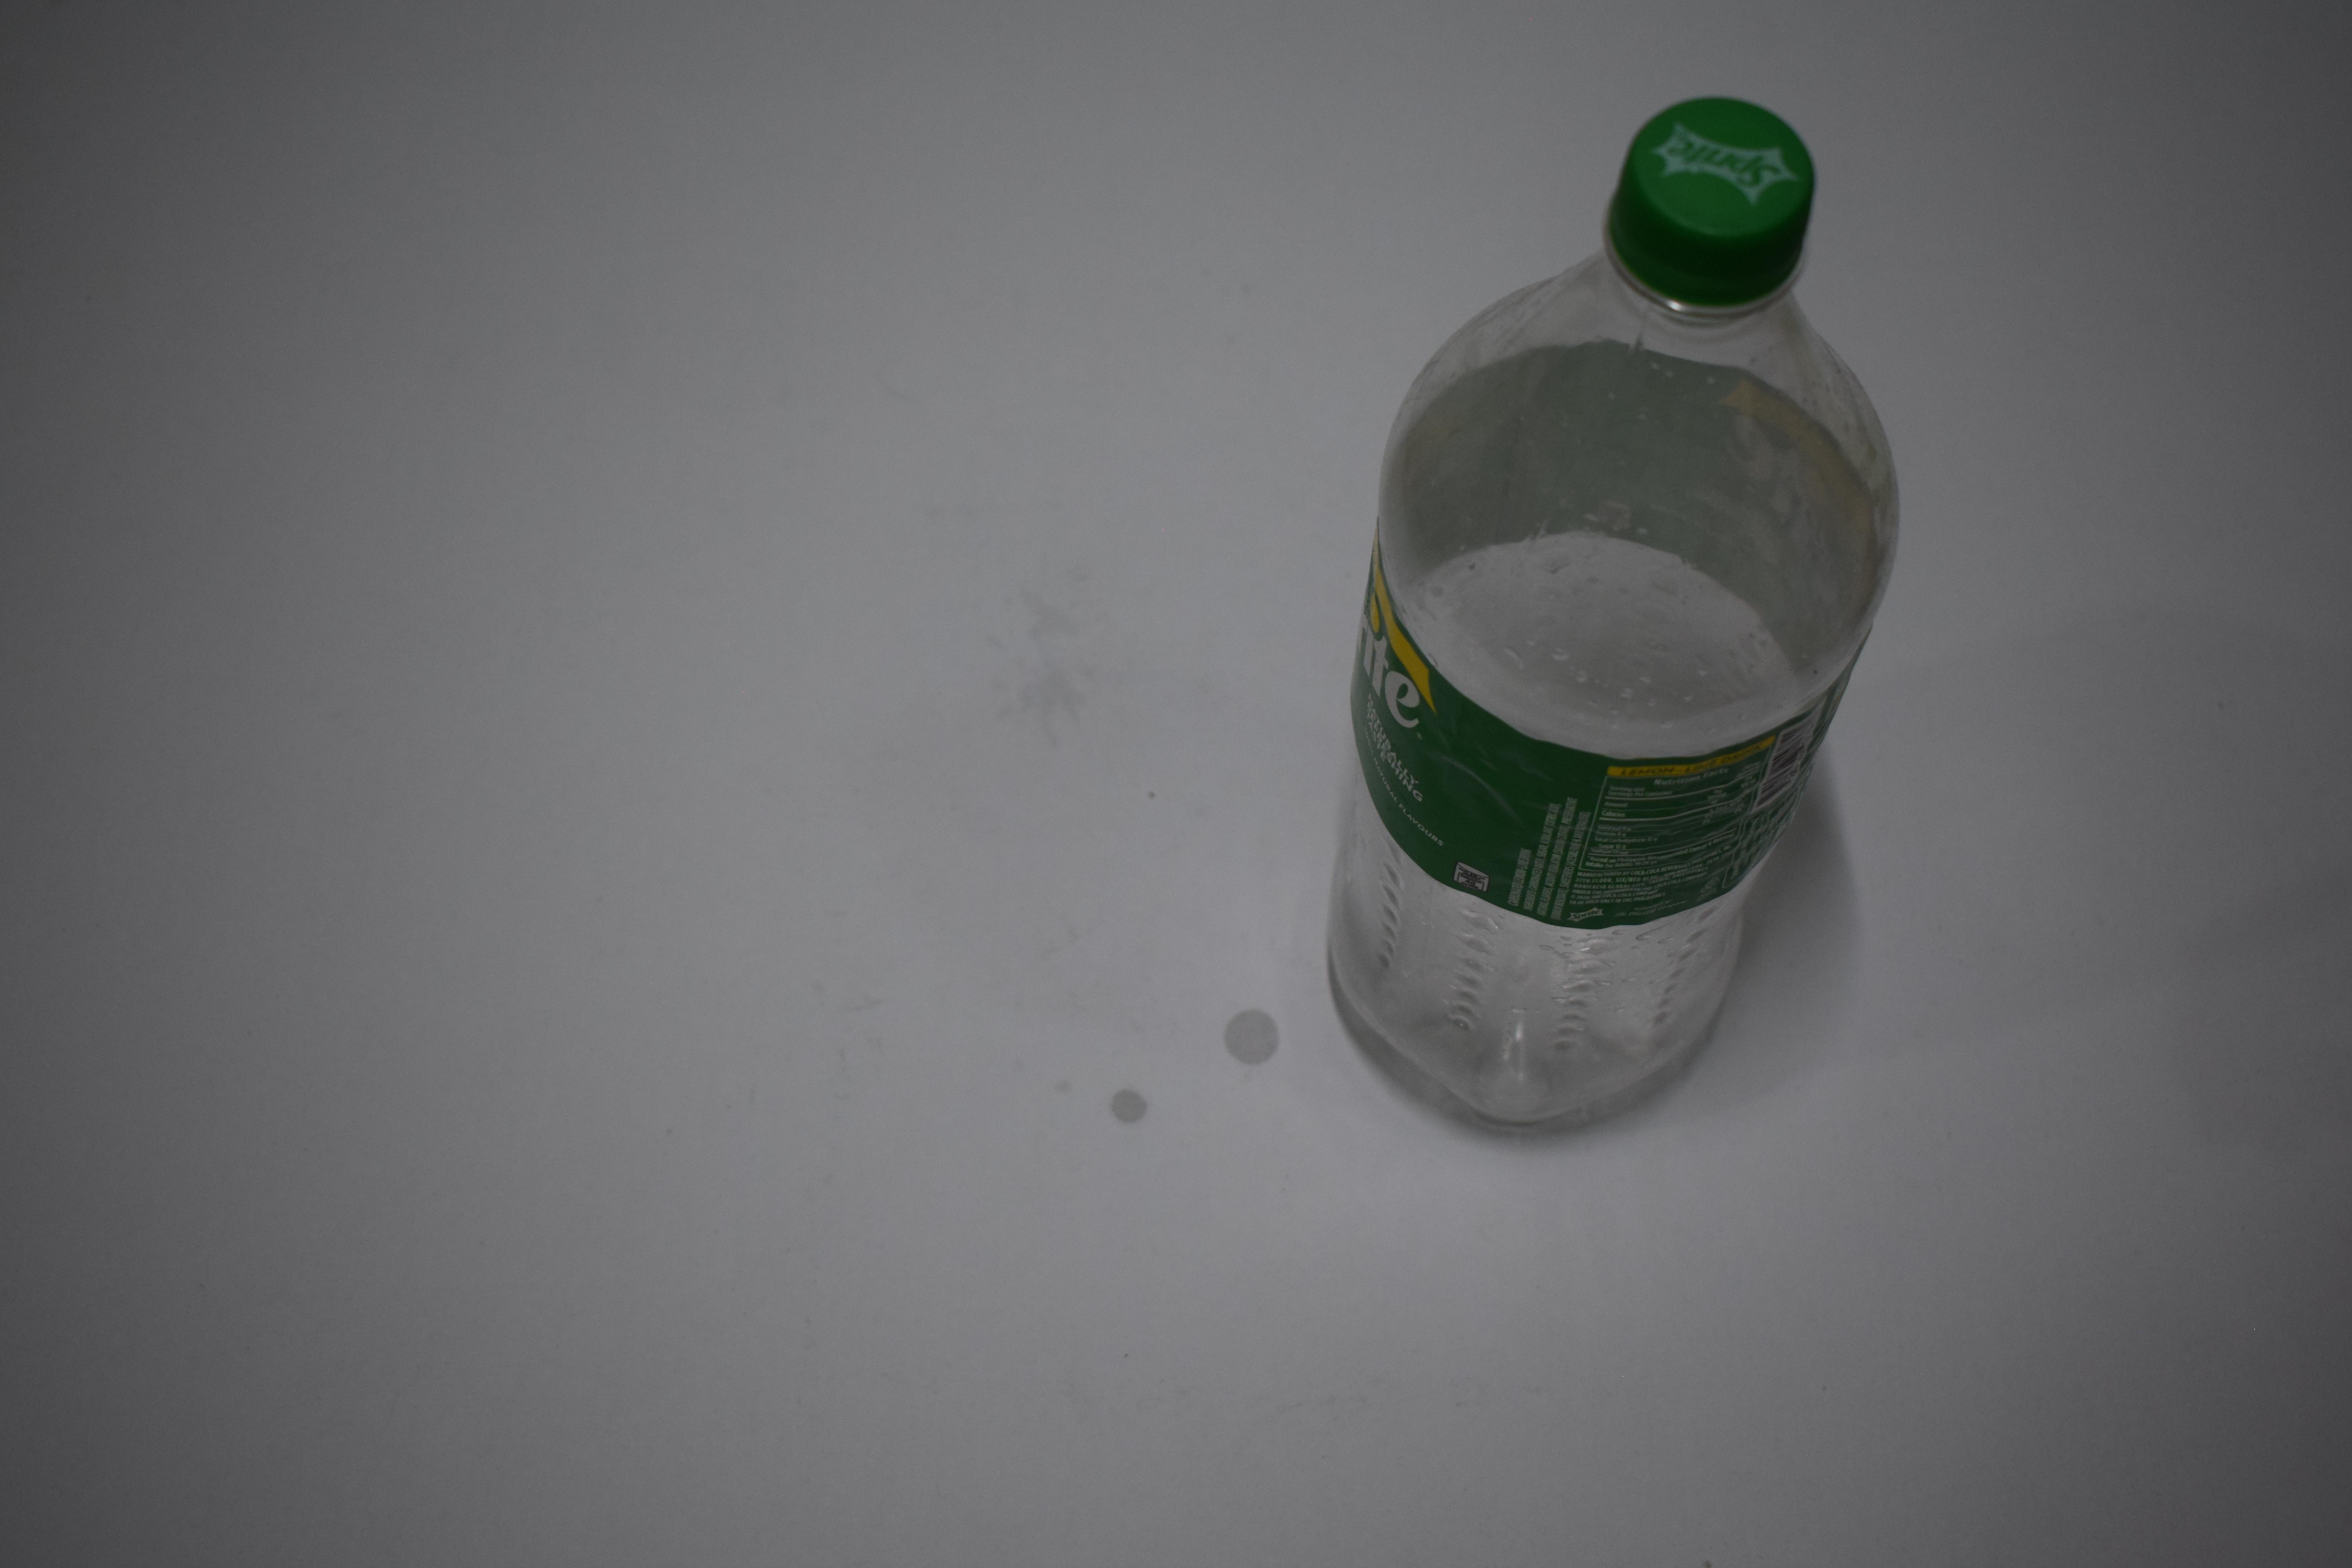bottle: (1365, 82, 1839, 1136)
